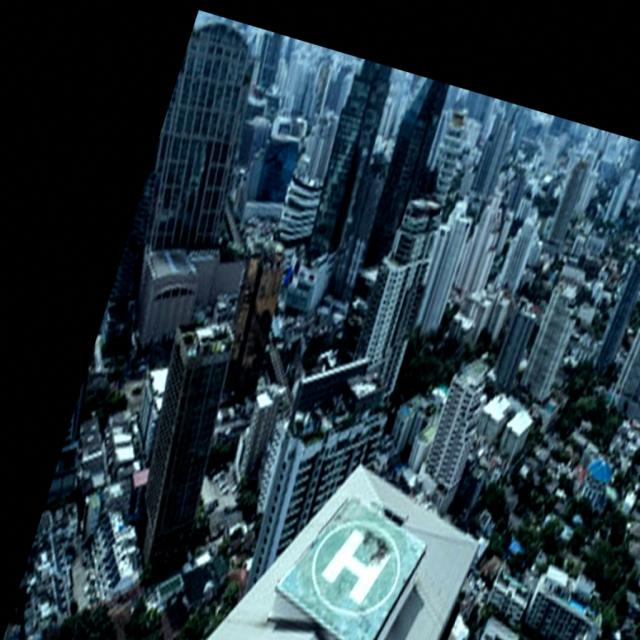helipad: (307, 514, 402, 620)
